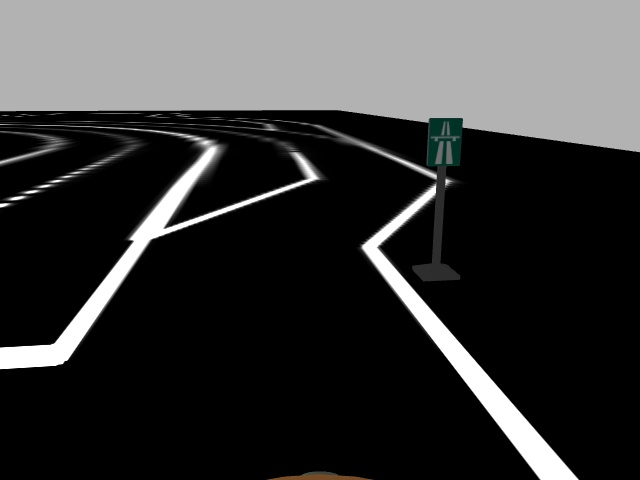enter_highway: (424, 116, 467, 169)
